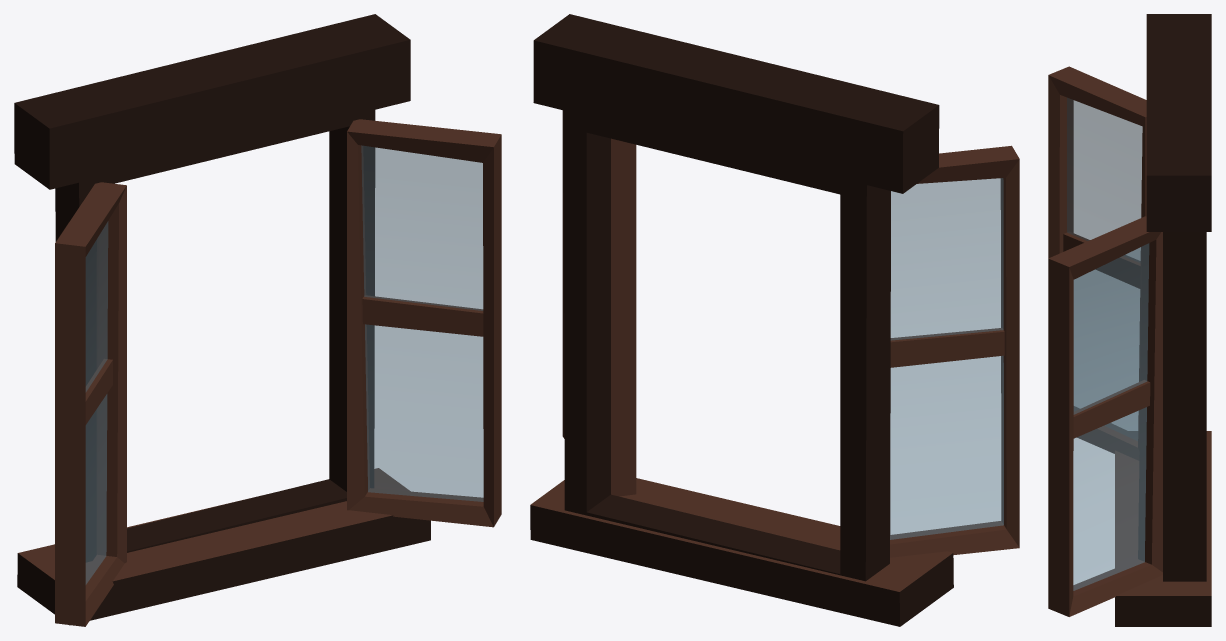
File: Window 2x2 V2 Open v1.glb
The picture shows the model from 3 angles, left to right: view 1: azimuth 30°, elevation 25°; view 2: azimuth 150°, elevation 25°; view 3: azimuth 270°, elevation 25°; orthographic projection. The views are drawn at different scales.
Parts seen in each view (by area): view 1: Window 2x2 V2 Open v1; view 2: Window 2x2 V2 Open v1; view 3: Window 2x2 V2 Open v1.
Boxes of the visible parts, x1,y1,x2,y2 form: Window 2x2 V2 Open v1: (14,14,501,626); Window 2x2 V2 Open v1: (530,14,1019,626); Window 2x2 V2 Open v1: (1048,14,1211,626).
Bounding box in the file's own units: 1.74 × 1.82 × 0.5977.
2 materials, 2 textured.
